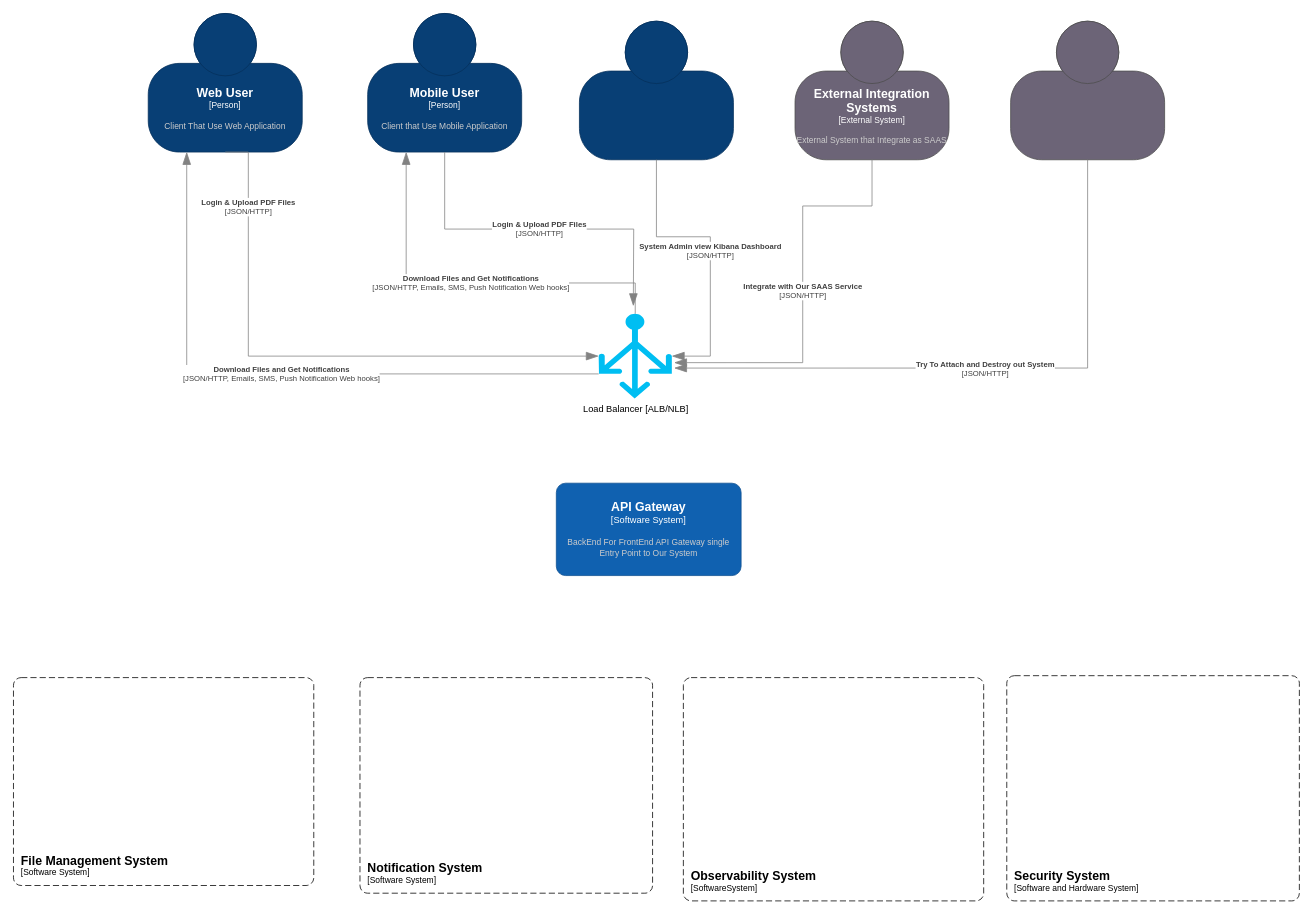
Image size: 1313x915. Some labels were removed from this diagram. The shapes that lost their labels are listed below. From the top down, each one's centre as x and y in pixels, then its label:
At point 656,90: "Admin [Person] Admin That Manage System From Kibana Dashboard".
At point 1087,90: "Thread Actor [Person] Thread Actor that need to destroy out System".
